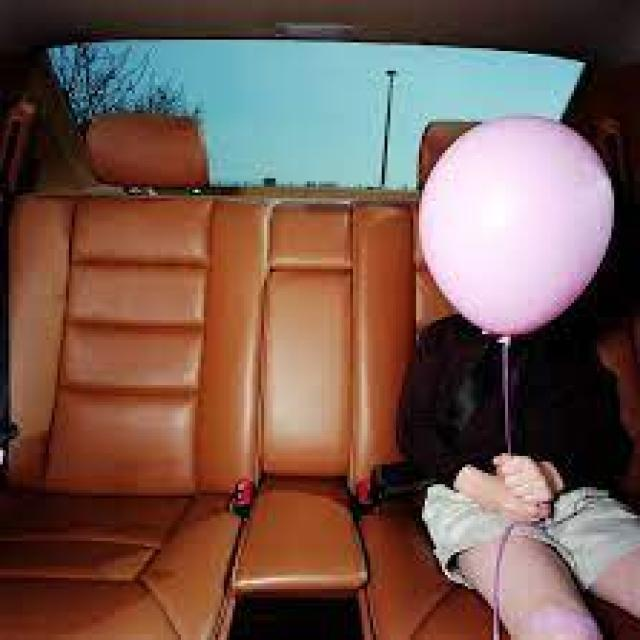balloon: (419, 109, 615, 332)
